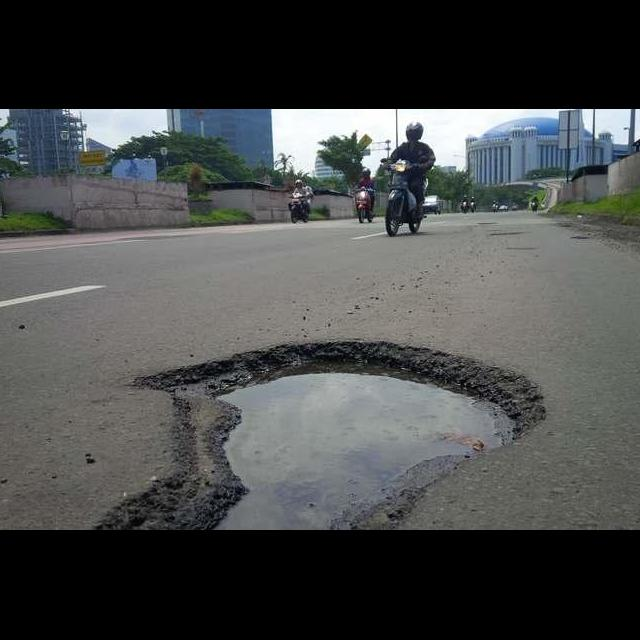lubang_kecil: (70, 322, 561, 530)
